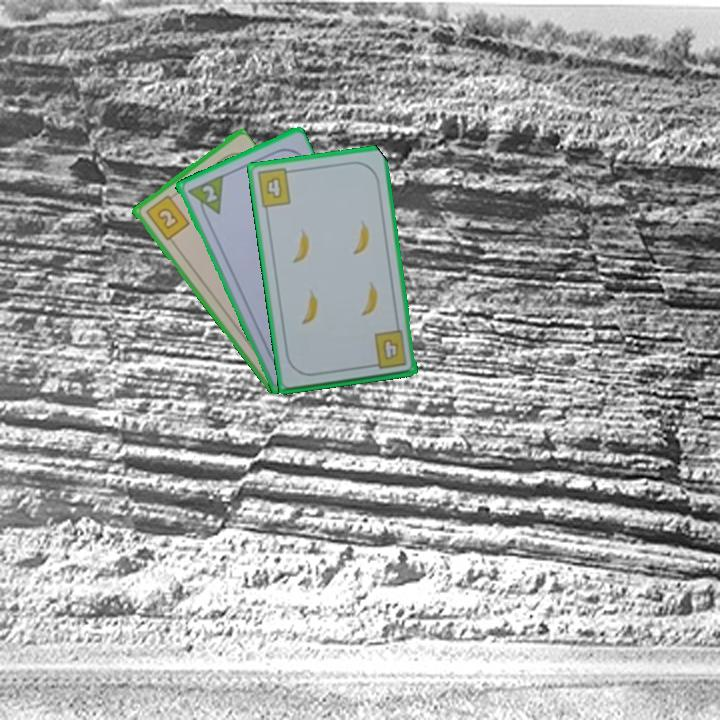2b: (142, 191, 192, 243)
2p: (183, 171, 226, 222)
4b: (253, 165, 297, 210), (366, 327, 409, 372)
